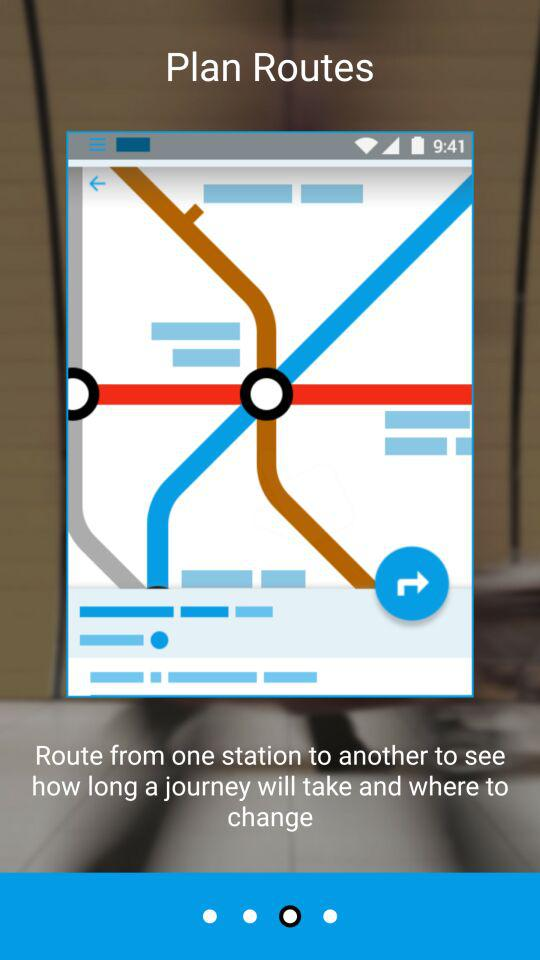BackgroundImage: (1, 2, 540, 872)
Image: (66, 130, 475, 698)
PageIndicator: (201, 904, 340, 929)
Text: (32, 743, 510, 833), (167, 50, 375, 84)
